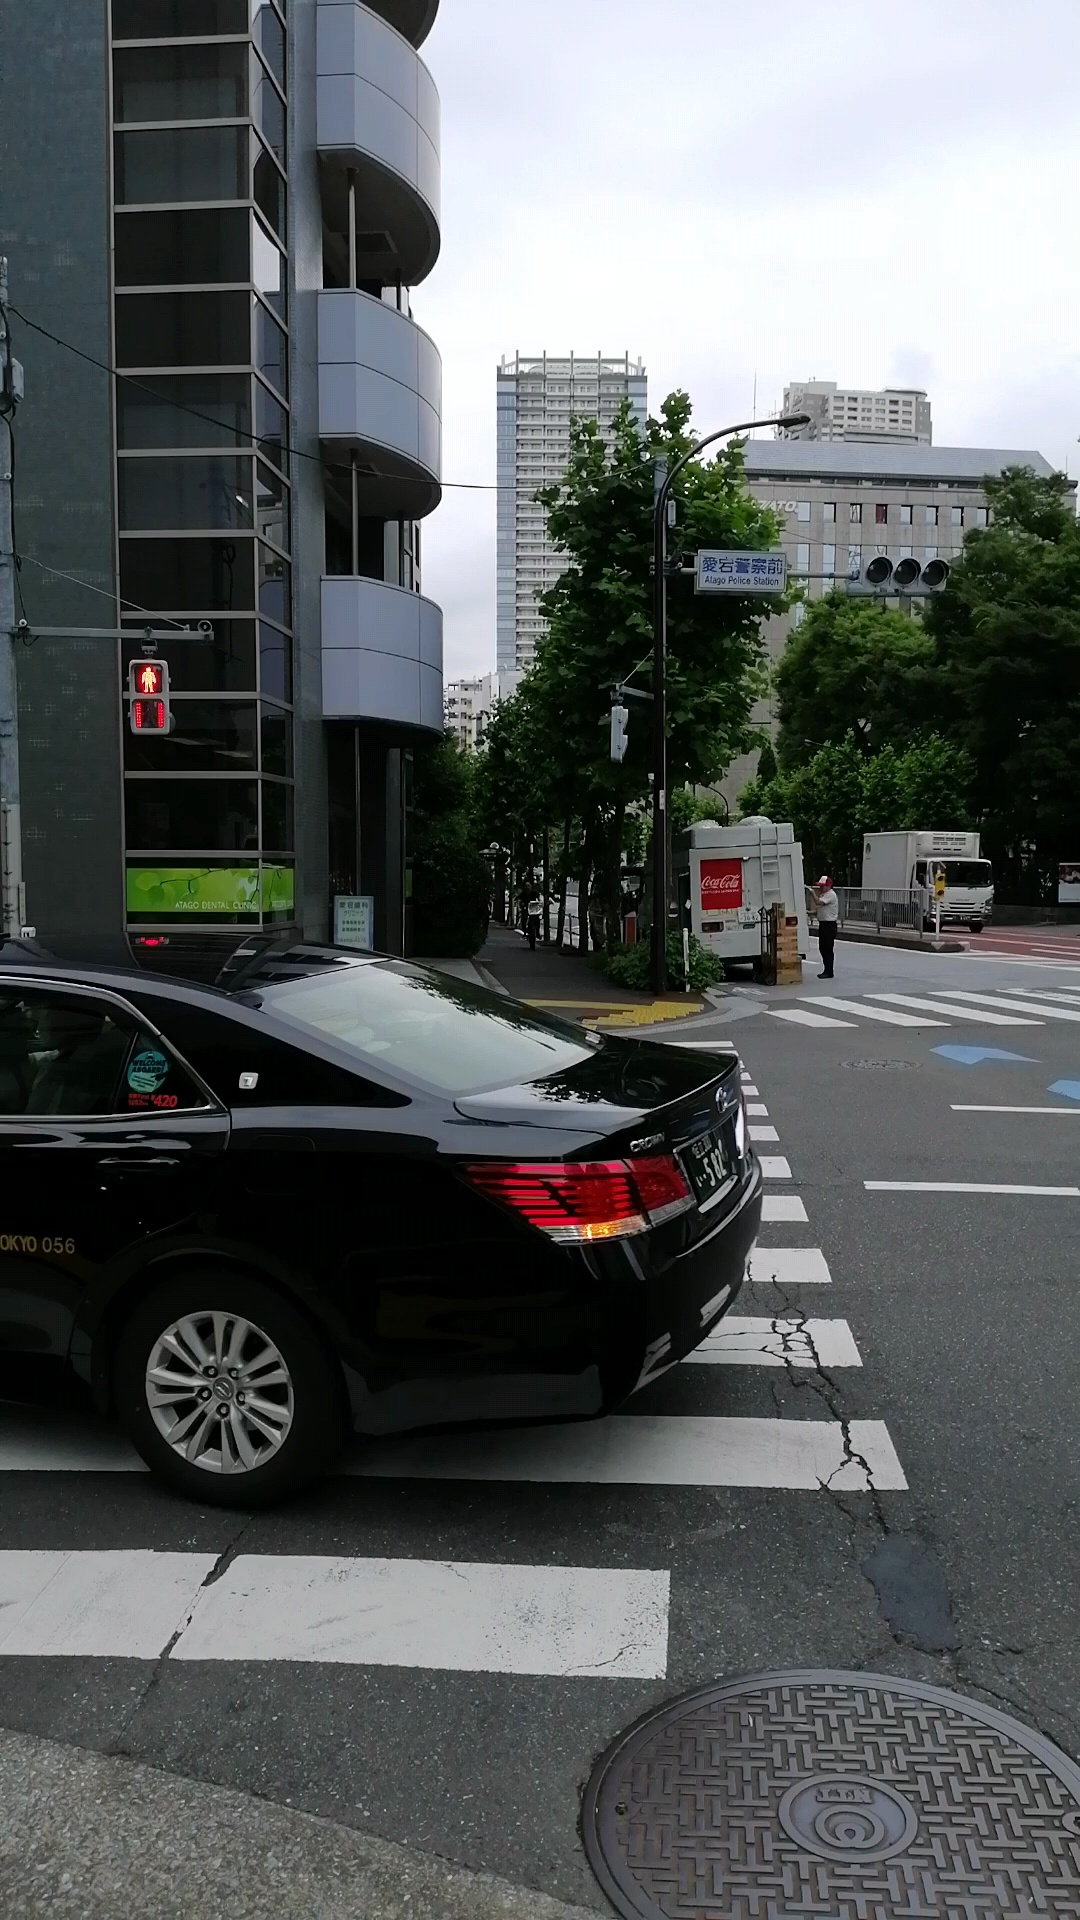red: (124, 654, 171, 737)
